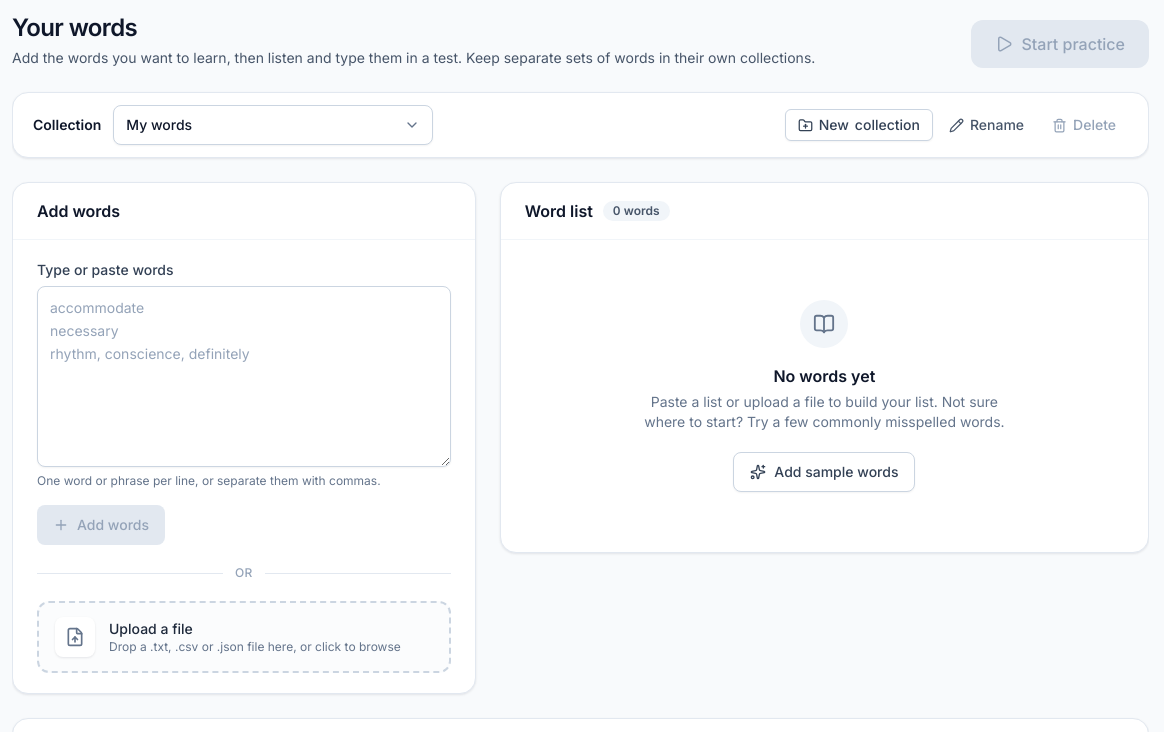
Test: WordLibrary › shows the word count after adding words
This screenshot has width=1164, height=732.
Step 1. Type "apple, banana, orange" into the text box labelled "Type or paste words" → (244, 377), box left=37, top=286, right=451, bottom=467
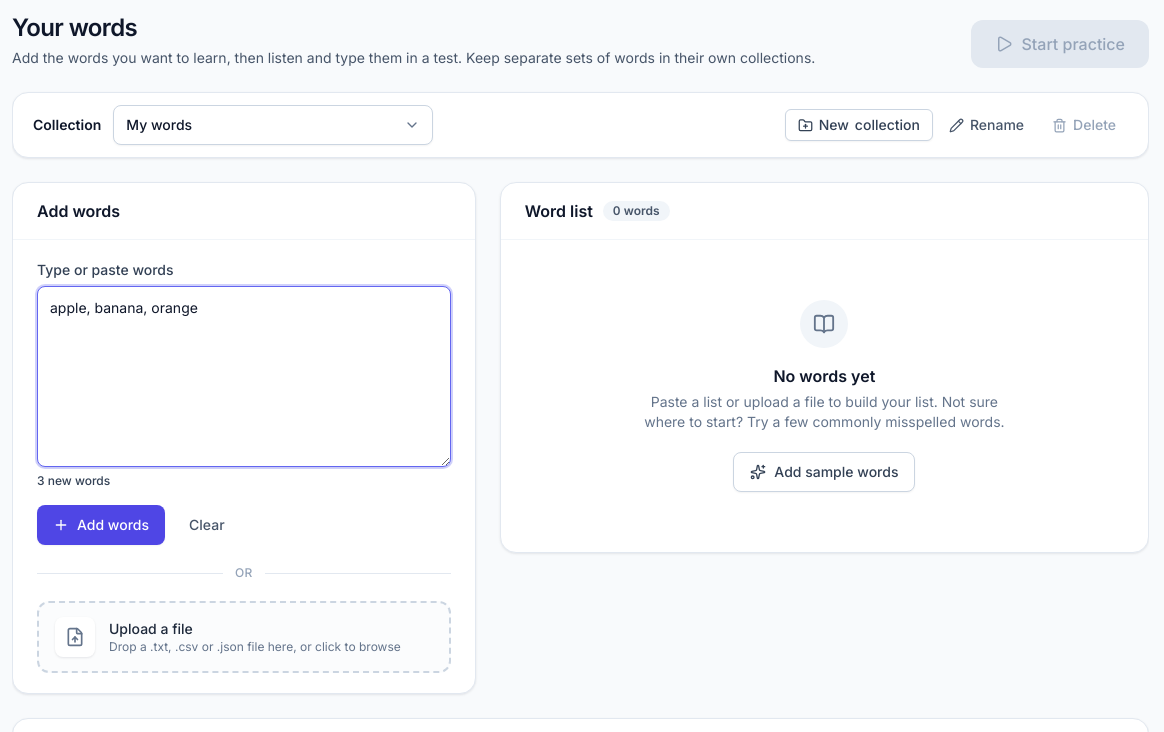
Step 2. Click the button "Add words" → (101, 525), box left=37, top=505, right=165, bottom=545
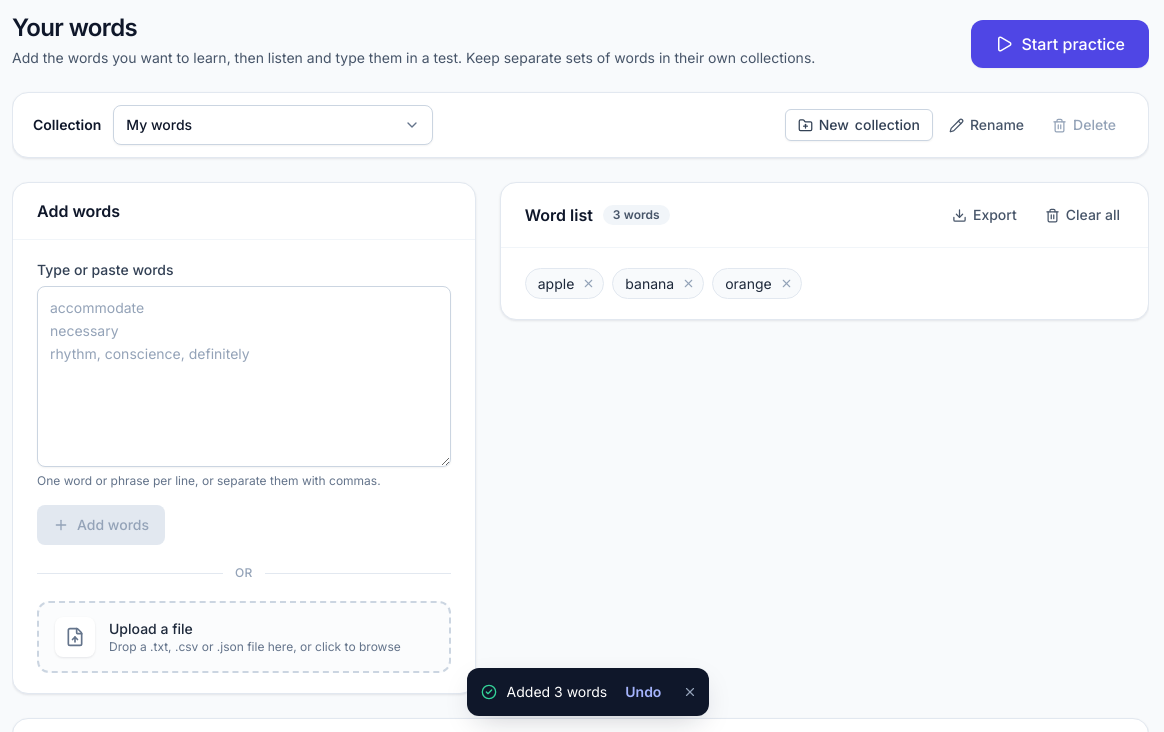
expect the text with test id "word-count" reads "3 words": met, box left=613, top=207, right=660, bottom=222
